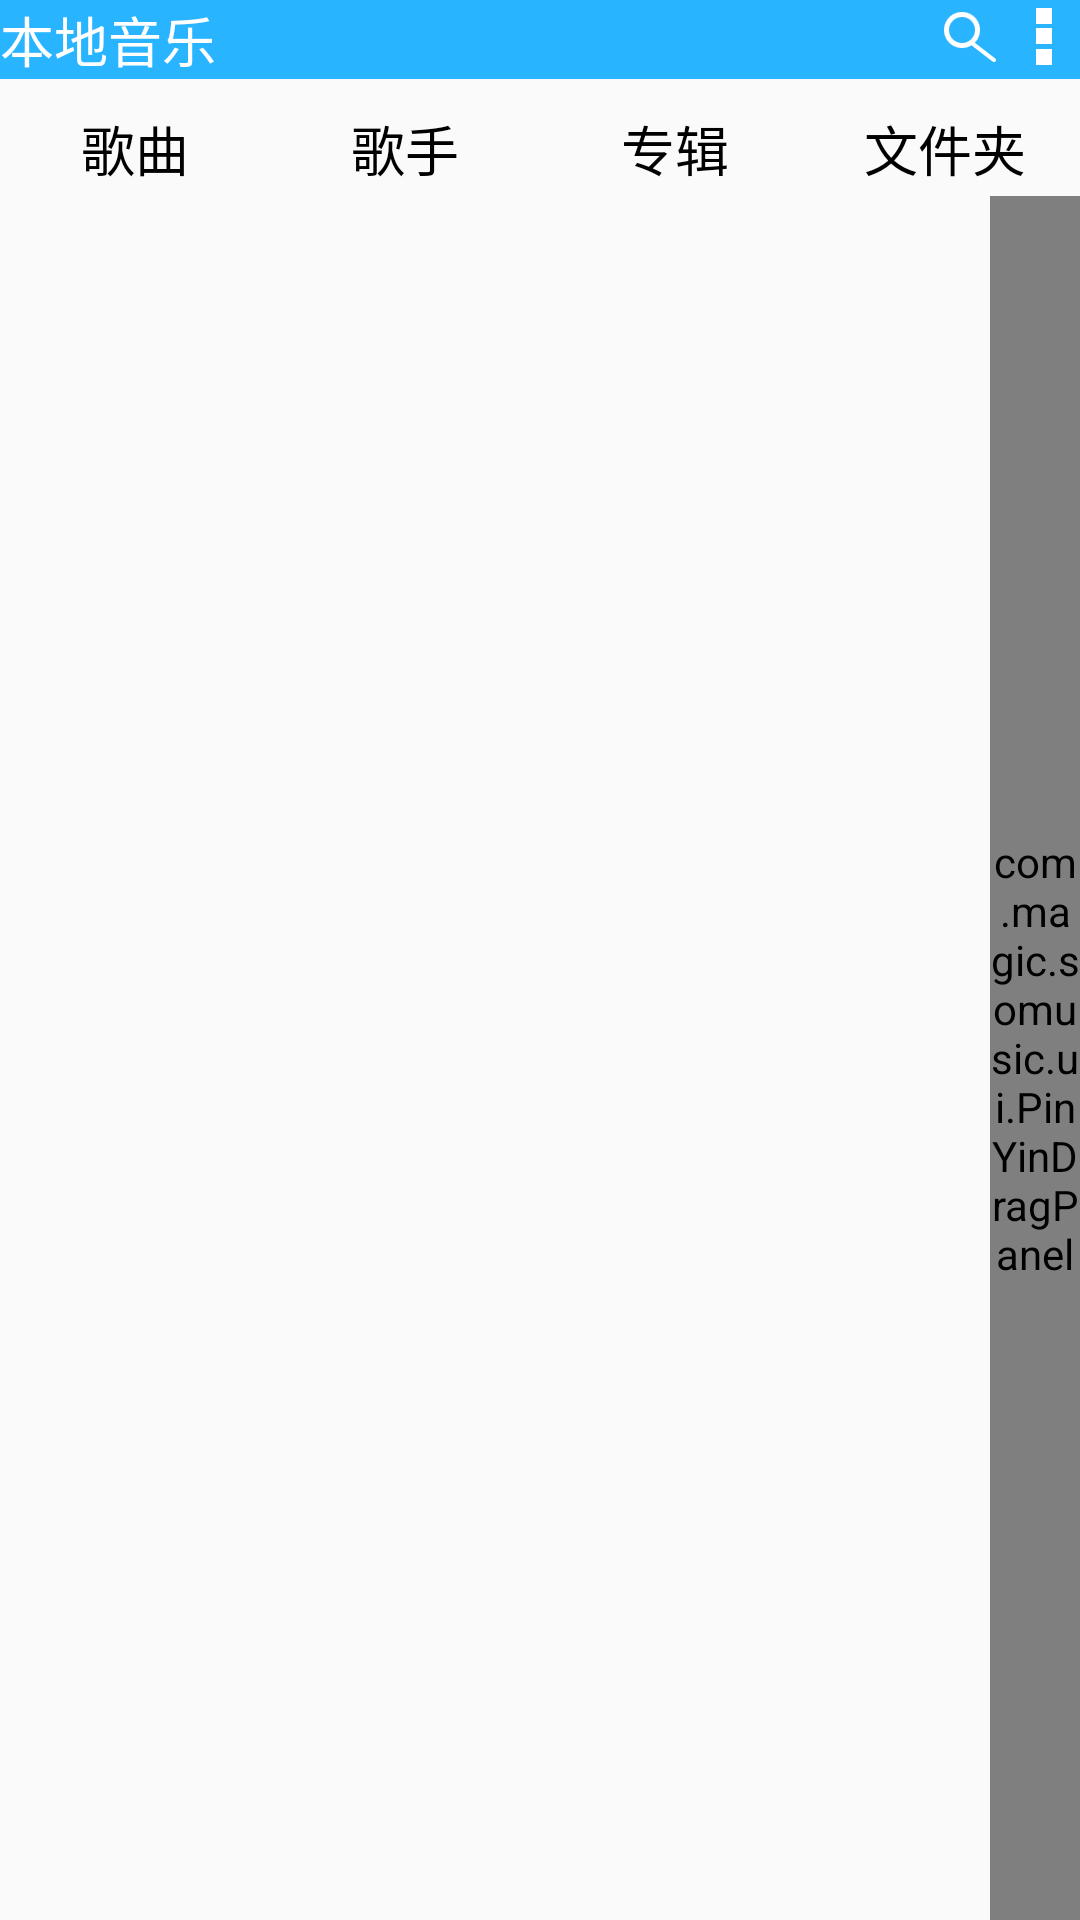

Icon click points for this 1080px×1920px phone screenshot, format point (x, y):
musiccircle search: point (970, 37)
